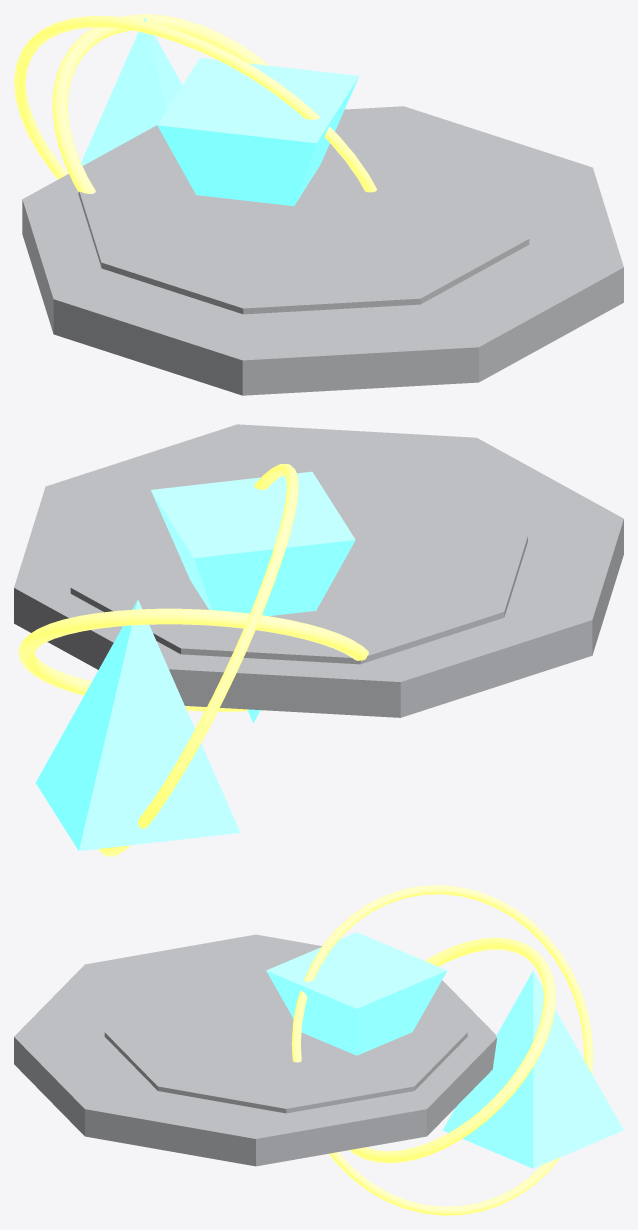
File: aether_spire.glb
3 views of the same model, one above another, from view 1: azimuth 30°, elevation 25°; view 2: azimuth 150°, elevation 25°; view 3: azimuth 270°, elevation 25° (orthographic). The views are drawn at different scales.
Visible parts, largest first — view 1: Cylinder, Cylinder.001, Cone.001, Torus.001, Cone, Torus; view 2: Cylinder, Cylinder.001, Cone, Cone.001, Torus, Torus.001; view 3: Cylinder, Cylinder.001, Cone, Cone.001, Torus.001, Torus.
Boxes of the visible parts, x1,y1,x2,y2 form: Cylinder: (22,106,623,395); Cylinder.001: (78,118,529,314); Cone.001: (157,58,359,205); Torus.001: (14,15,376,192); Cone: (81,18,182,165); Torus: (52,14,268,193); Cylinder: (14,424,623,717); Cylinder.001: (70,465,527,664); Cone: (35,599,240,851); Cone.001: (151,471,355,723); Torus: (18,608,368,711); Torus.001: (98,464,298,856); Cylinder: (14,934,497,1166); Cylinder.001: (104,955,467,1113); Cone: (442,971,623,1168); Cone.001: (266,932,447,1055); Torus.001: (291,885,593,1215); Torus: (349,937,555,1163).
Bounding box in the file's own units: 9.6 × 5.88 × 12.1.
